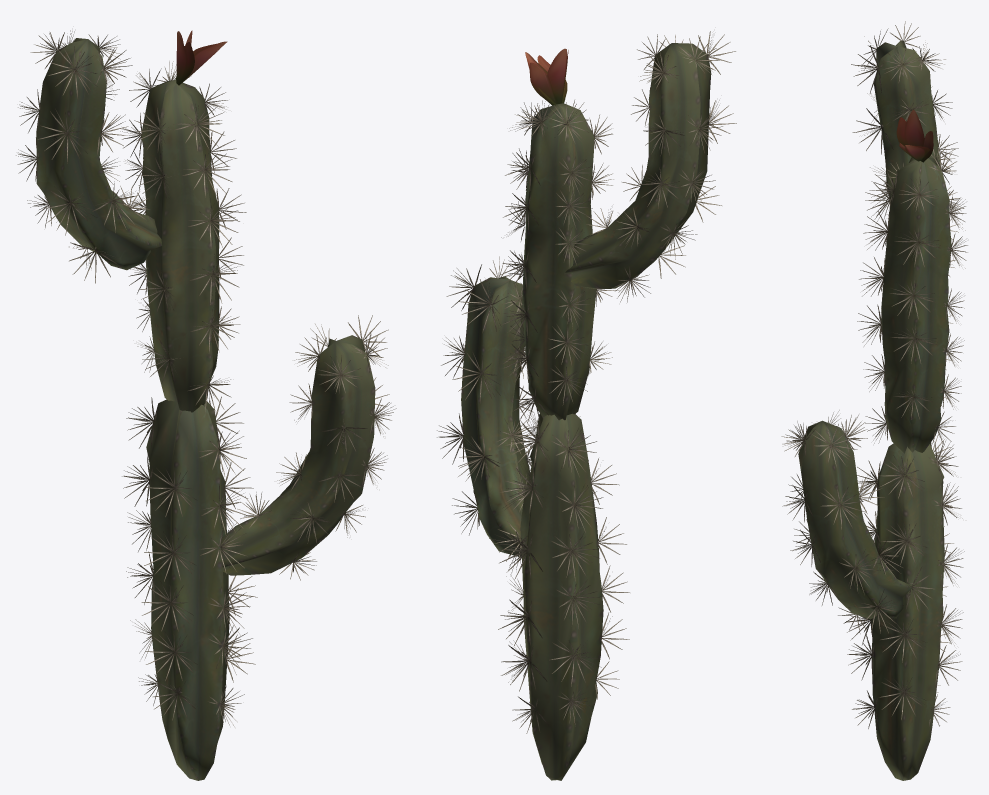
Rendered from Scene_Tree_XianRenZhang_4.FBX.
The picture shows the model from 3 angles, left to right: view 1: azimuth 30°, elevation 25°; view 2: azimuth 150°, elevation 25°; view 3: azimuth 270°, elevation 25°; orthographic projection. The views are drawn at different scales.
Parts seen in each view (by area): view 1: Scene_Tree_XianRenZhang_4a, Scene_Tree_XianRenZhang_4b; view 2: Scene_Tree_XianRenZhang_4a, Scene_Tree_XianRenZhang_4b; view 3: Scene_Tree_XianRenZhang_4a, Scene_Tree_XianRenZhang_4b.
Part boxes in pixels (left/top/right/bottom): Scene_Tree_XianRenZhang_4a: left=36, top=38, right=375, bottom=780; Scene_Tree_XianRenZhang_4b: left=16, top=30, right=396, bottom=726; Scene_Tree_XianRenZhang_4a: left=461, top=43, right=711, bottom=780; Scene_Tree_XianRenZhang_4b: left=437, top=31, right=736, bottom=733; Scene_Tree_XianRenZhang_4a: left=798, top=40, right=951, bottom=780; Scene_Tree_XianRenZhang_4b: left=781, top=21, right=967, bottom=728.
Bounding box in the file's own units: 150 × 339 × 88.14.
